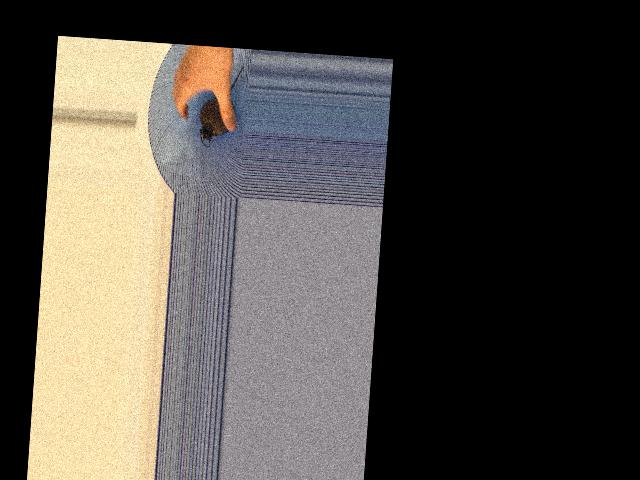beet: (198, 63, 244, 149)
